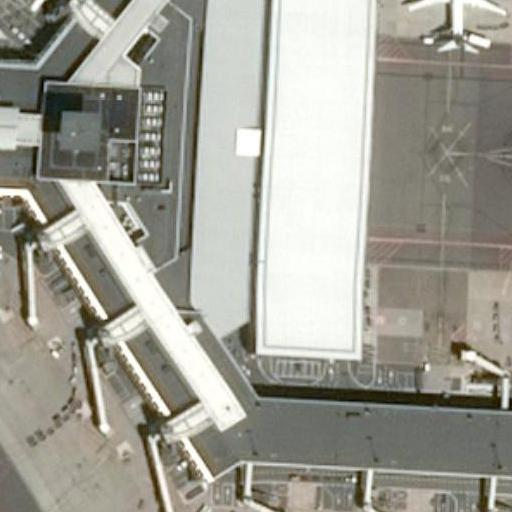Aircraft: (404, 0, 499, 50)
